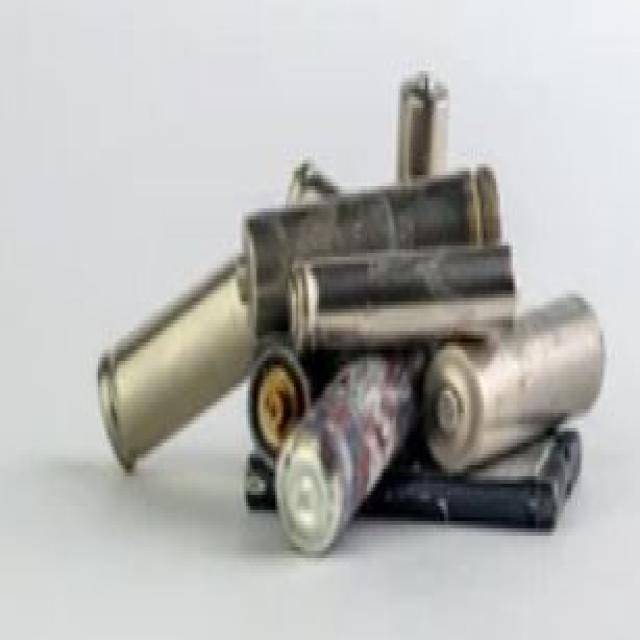electronic: (59, 61, 250, 492), (410, 298, 622, 498), (259, 335, 415, 569), (391, 44, 461, 202)
